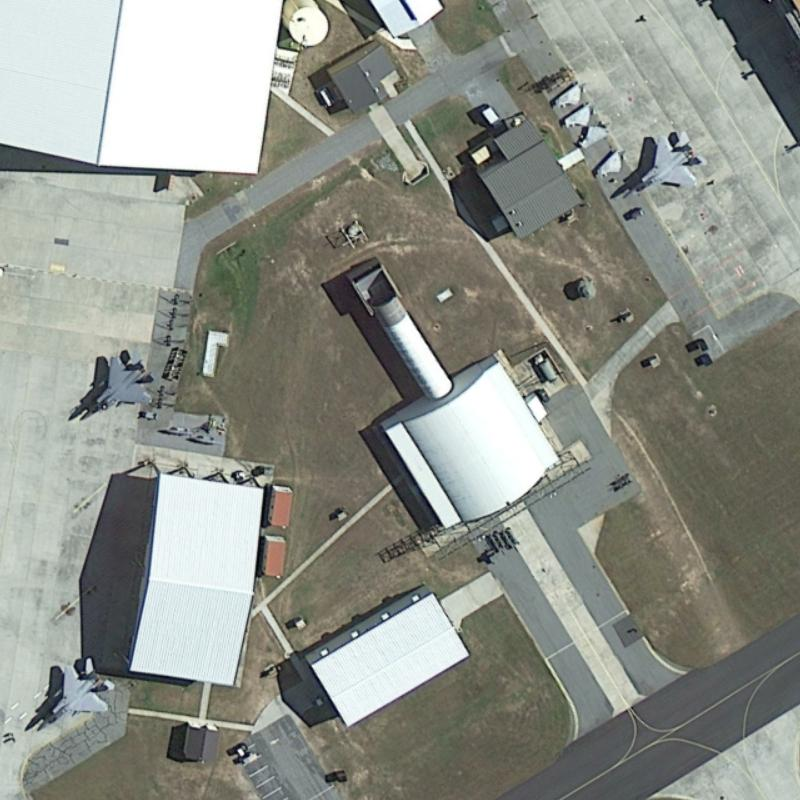A13: (64, 343, 161, 430), (614, 124, 709, 204), (29, 652, 121, 733)
